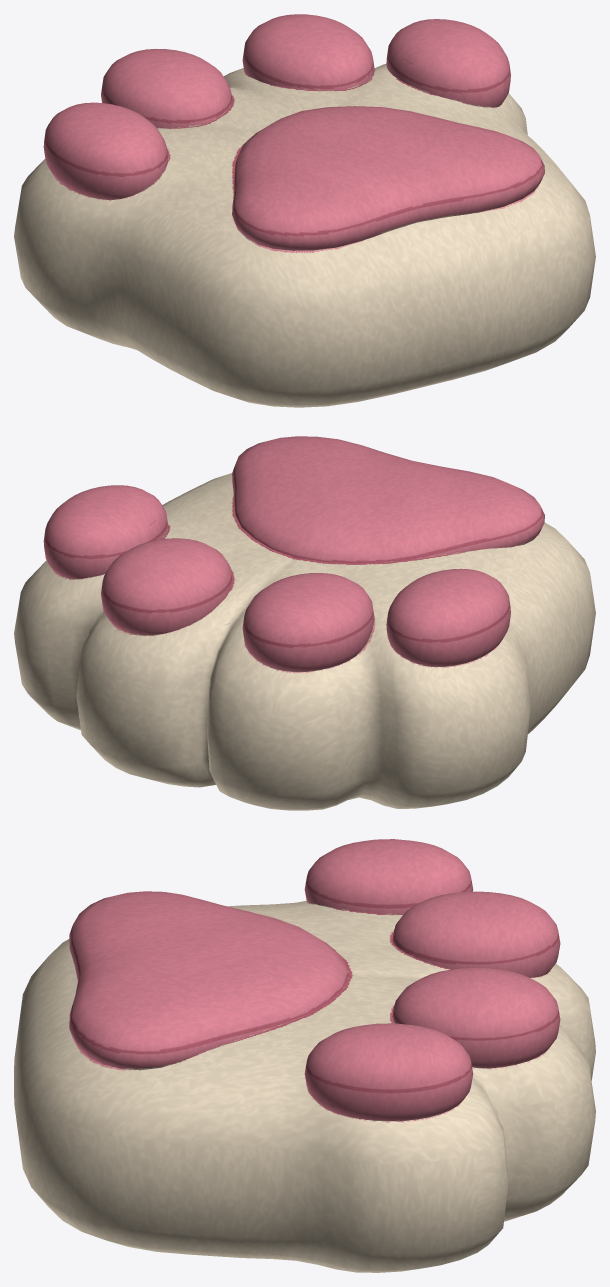
The model's file is PawCushion.fbx.
The picture shows the model from 3 angles, top to bottom: view 1: azimuth 30°, elevation 25°; view 2: azimuth 150°, elevation 25°; view 3: azimuth 270°, elevation 25°; orthographic projection. The views are drawn at different scales.
Visible parts, largest first — view 1: PawPlush_V3; view 2: PawPlush_V3; view 3: PawPlush_V3.
Part boxes in pixels (x1,y1,x2,y2): PawPlush_V3: [14, 14, 595, 407]; PawPlush_V3: [14, 436, 595, 810]; PawPlush_V3: [14, 839, 595, 1272].
Bounding box in the file's own units: 1.06 × 0.47 × 1.
Materials: 1 (1 with a texture image).
